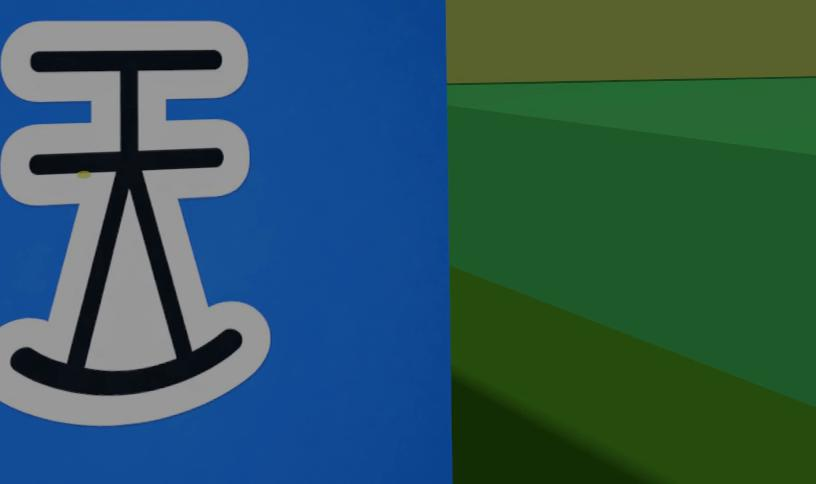KFS_REAL: (0, 0, 452, 483), (0, 21, 268, 425)
